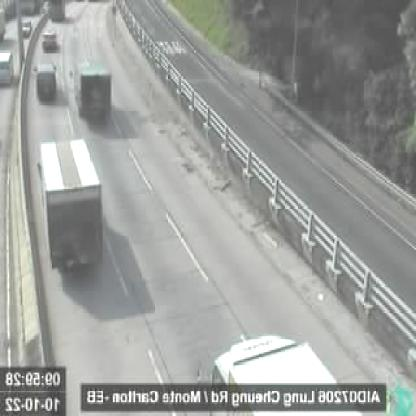Car: (42, 30, 58, 52)
Truck: (192, 334, 366, 410), (43, 141, 104, 275), (76, 62, 110, 121), (34, 59, 55, 100)
